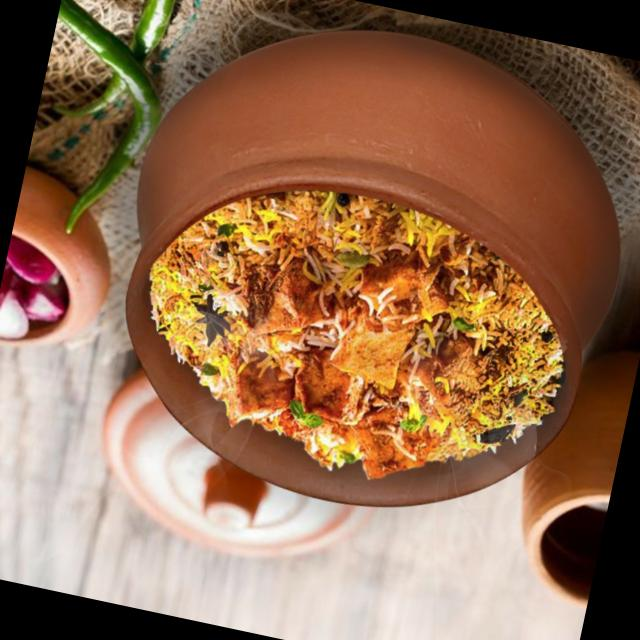Biryani: (117, 158, 590, 516)
